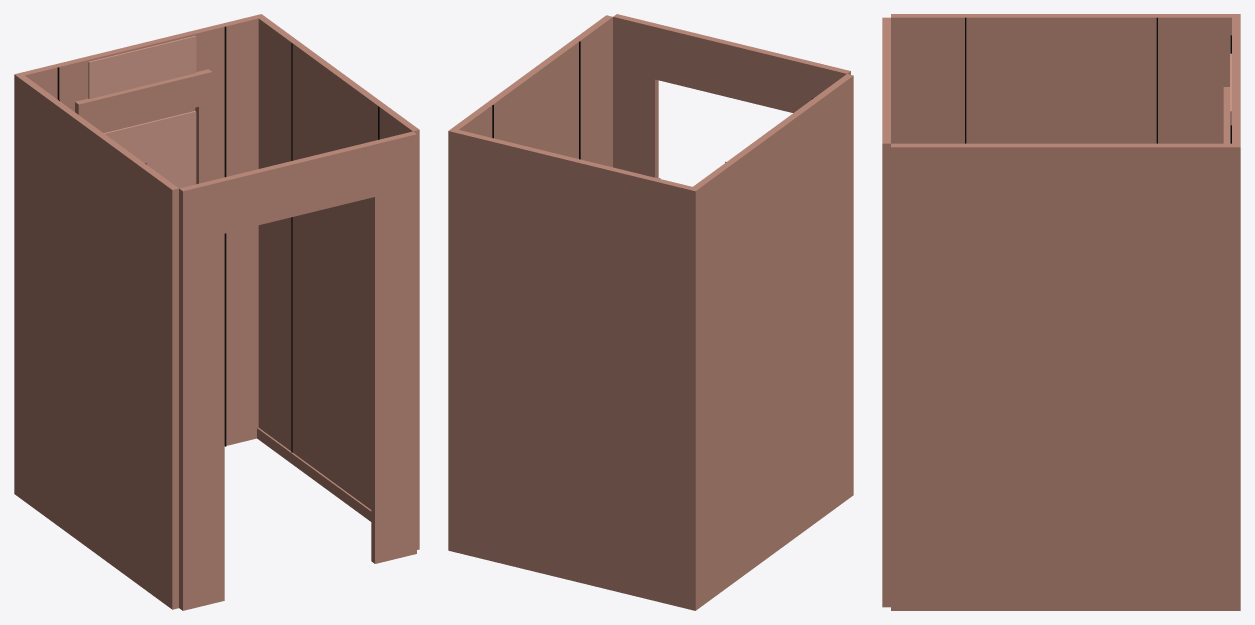
File: wall_rose.glb
The picture shows the model from 3 angles, left to right: view 1: azimuth 30°, elevation 25°; view 2: azimuth 150°, elevation 25°; view 3: azimuth 270°, elevation 25°; orthographic projection. The views are drawn at different scales.
Parts seen in each view (by area): view 1: Wall_Left, Wall_Right, Wall_Back, Front_Return_L, Front_Return_R, Front_Header, Back_Header, Back_Mirror_Top, Back_Recess, Skirting_R, Back_Post_R, Back_Seam_R (+1 smaller); view 2: Wall_Back, Wall_Left, Wall_Right, Front_Header, Front_Return_R, Front_Return_L; view 3: Wall_Right, Wall_Left, Wall_Back, Front_Return_R, Front_Header.
Part boxes in pixels (x1,y1,x2,y2): Wall_Left: [18, 75, 178, 609]; Wall_Right: [258, 17, 419, 549]; Wall_Back: [14, 14, 264, 496]; Front_Return_L: [179, 178, 224, 610]; Front_Return_R: [371, 131, 416, 563]; Front_Header: [221, 141, 374, 233]; Back_Header: [75, 69, 212, 130]; Back_Mirror_Top: [88, 36, 196, 98]; Back_Recess: [104, 111, 196, 188]; Skirting_R: [257, 427, 371, 521]; Back_Post_R: [195, 103, 212, 184]; Back_Seam_R: [224, 26, 226, 446]; Wall_Back: [448, 128, 699, 610]; Wall_Left: [693, 74, 853, 607]; Wall_Right: [452, 15, 612, 167]; Front_Header: [655, 24, 808, 112]; Front_Return_R: [613, 14, 658, 178]; Front_Return_L: [805, 61, 850, 103]; Wall_Right: [891, 143, 1231, 610]; Wall_Left: [891, 14, 1231, 143]; Wall_Back: [1232, 14, 1240, 610]; Front_Return_R: [882, 121, 890, 607]; Front_Header: [882, 40, 890, 121].
Bounding box in the file's own units: 1.48 × 2.4 × 1.68.
